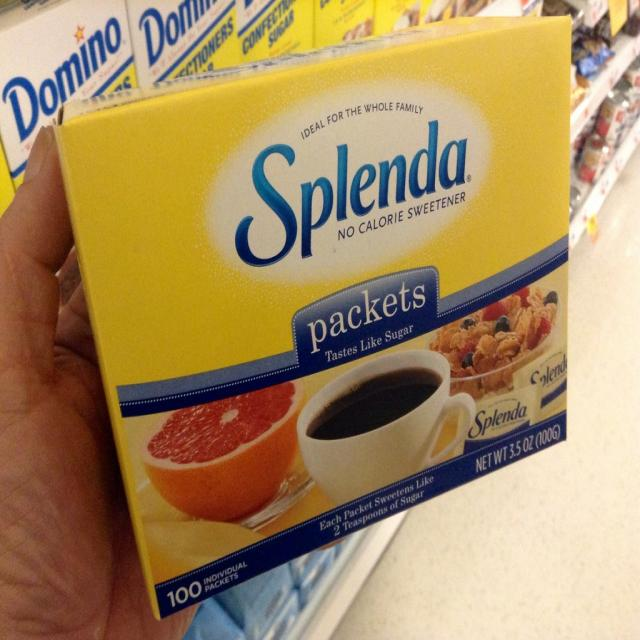Coffee: (307, 376, 444, 442)
Tea: (309, 368, 444, 442)
